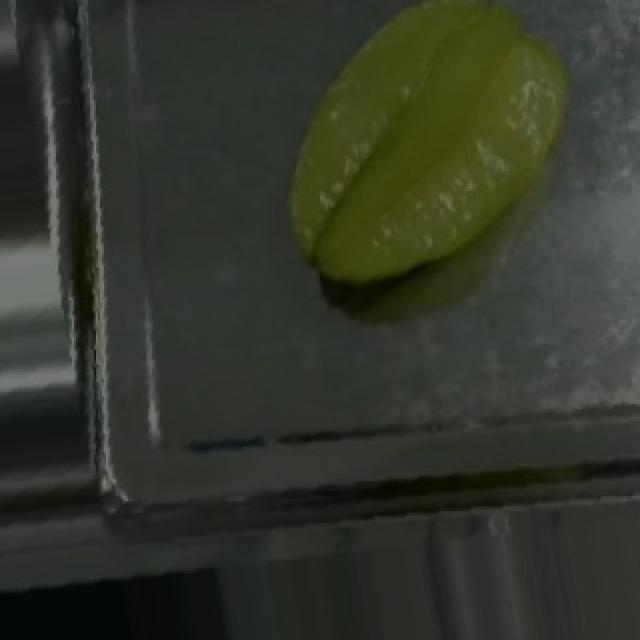fruit: (262, 3, 604, 315)
